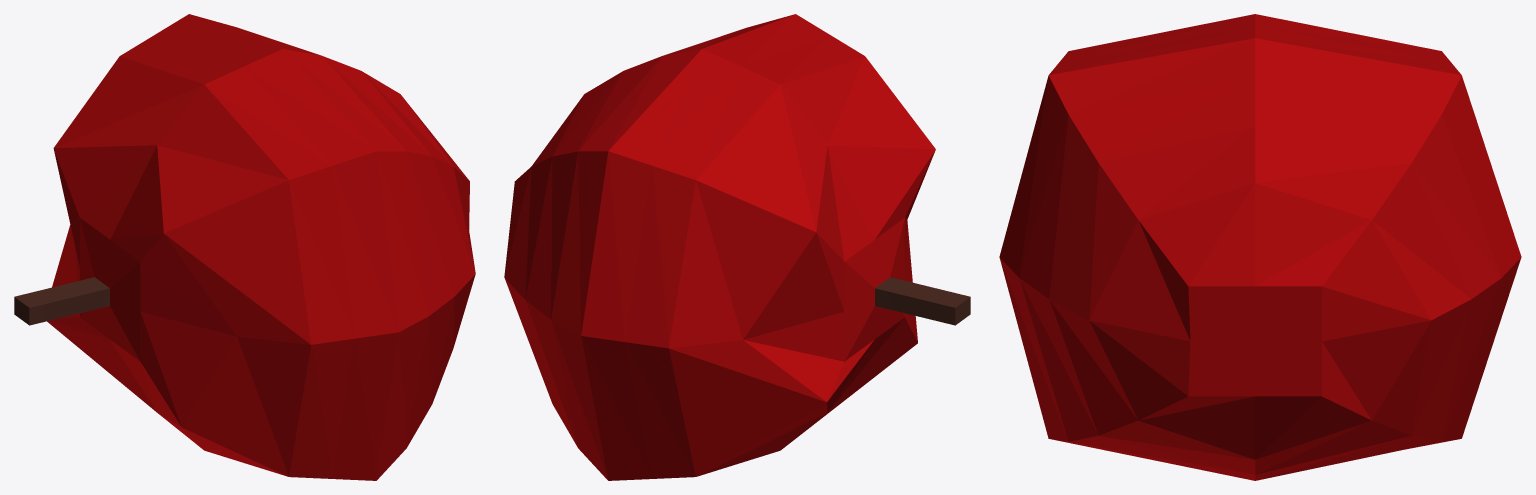
The model's file is Apple.FBX.
3 views of the same model, side by side, from view 1: azimuth 30°, elevation 25°; view 2: azimuth 150°, elevation 25°; view 3: azimuth 270°, elevation 25° (orthographic). The views are drawn at different scales.
Parts seen in each view (by area): view 1: Box001; view 2: Box001; view 3: Box001.
Part boxes in pixels (box(x1,y1,x2,y2)): Box001: box(14, 14, 475, 480); Box001: box(504, 14, 970, 480); Box001: box(999, 14, 1521, 480).
Bounding box in the file's own units: 0.5325 × 0.4858 × 0.5226.
Materials: 1 (1 with a texture image).
